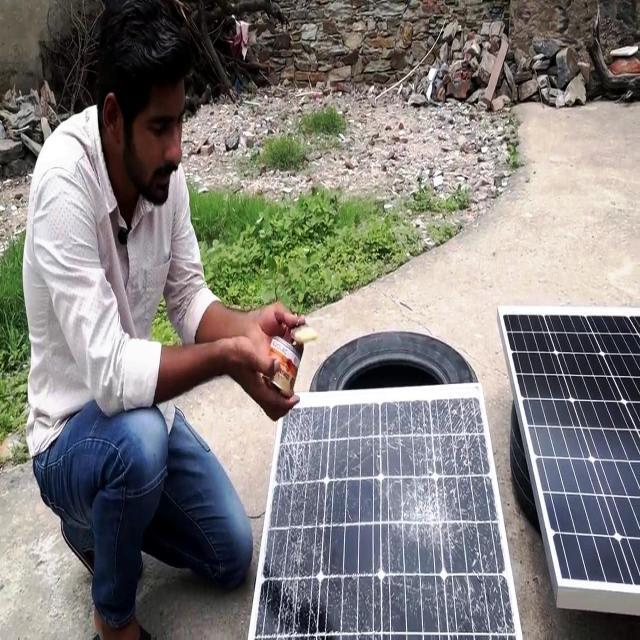faulty: (259, 383, 516, 640)
no faulty: (499, 300, 640, 588)
